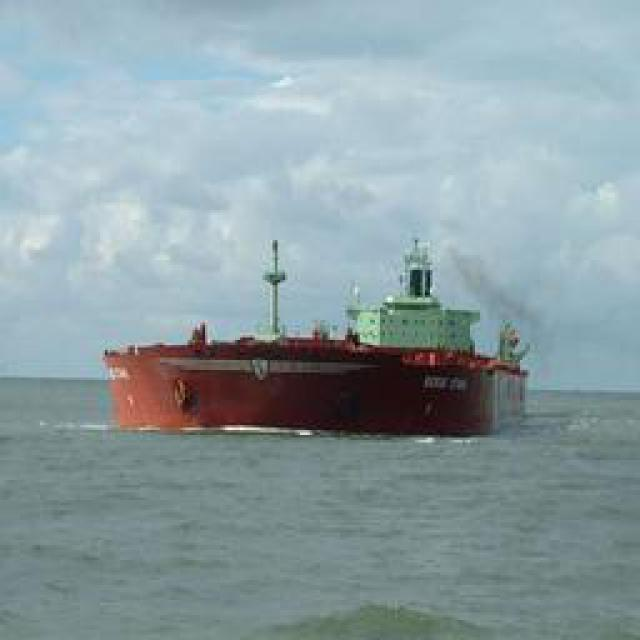Ship: (109, 227, 532, 440)
